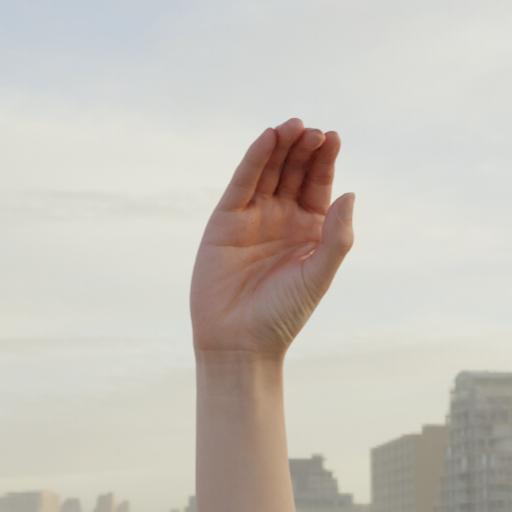C: (170, 106, 373, 358)
